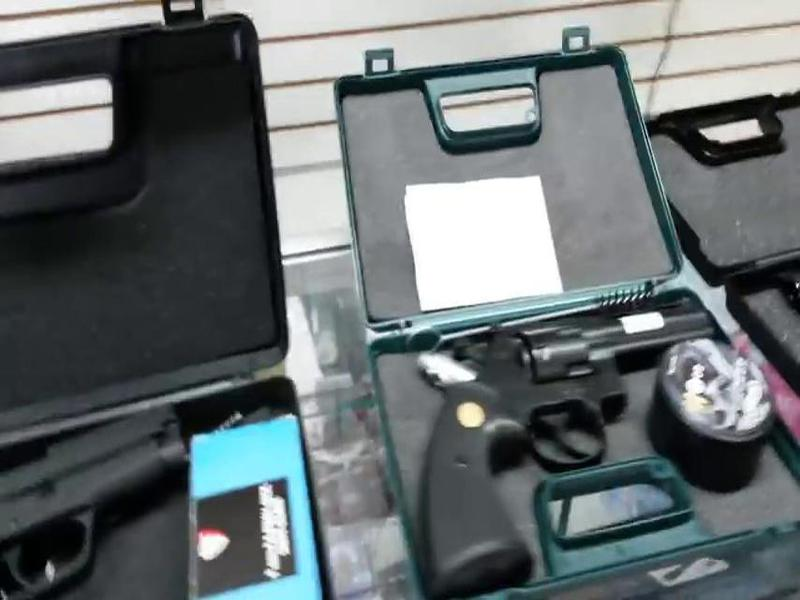Revolver: (404, 288, 755, 578)
